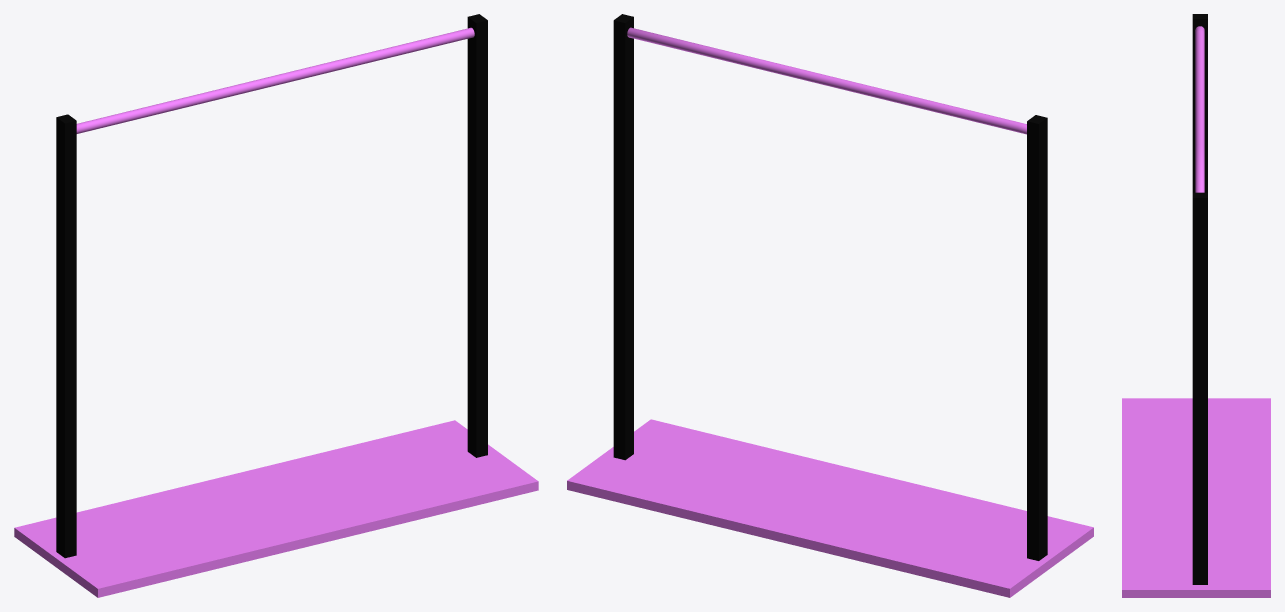
Rendered from shelf_2_empty.fbx.
The picture shows the model from 3 angles, left to right: view 1: azimuth 30°, elevation 25°; view 2: azimuth 150°, elevation 25°; view 3: azimuth 270°, elevation 25°; orthographic projection. The views are drawn at different scales.
Parts seen in each view (by area): view 1: Cube.025, Cube.023, Cube.024, Cylinder.014; view 2: Cube.025, Cube.023, Cube.024, Cylinder.014; view 3: Cube.025, Cube.024, Cylinder.014, Cube.023.
Boxes of the visible parts, left/top/right/bottom form: Cube.025: left=14, top=420, right=538, bottom=597; Cube.023: left=56, top=114, right=76, bottom=558; Cube.024: left=467, top=14, right=487, bottom=457; Cylinder.014: left=76, top=27, right=474, bottom=133; Cube.025: left=567, top=419, right=1093, bottom=597; Cube.023: left=1027, top=115, right=1047, bottom=560; Cube.024: left=613, top=14, right=633, bottom=460; Cylinder.014: left=627, top=27, right=1026, bottom=134; Cube.025: left=1122, top=398, right=1270, bottom=597; Cube.024: left=1192, top=192, right=1207, bottom=584; Cylinder.014: left=1195, top=26, right=1204, bottom=192; Cube.023: left=1192, top=14, right=1207, bottom=192.
Bounding box in the file's own units: 422 × 406 × 139.
